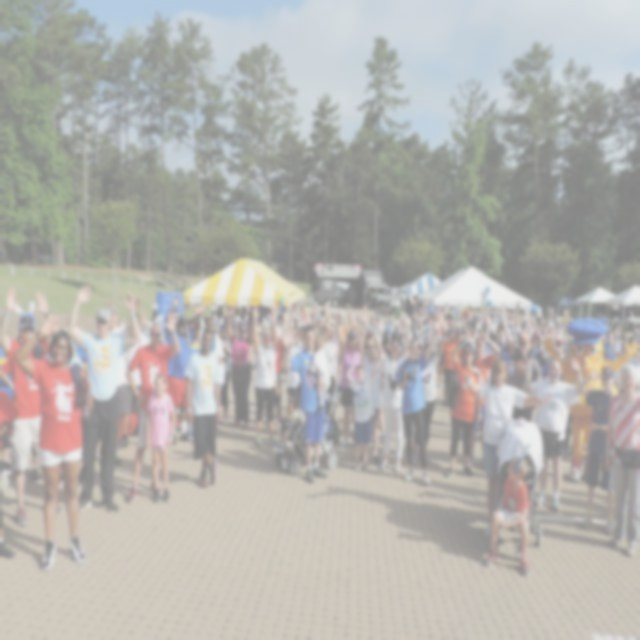pessoa: (13, 313, 91, 571), (64, 281, 141, 513), (461, 354, 555, 538), (0, 282, 57, 528), (520, 353, 604, 510), (124, 310, 182, 504), (0, 296, 46, 485), (496, 297, 639, 355), (394, 316, 441, 487), (574, 364, 618, 536), (282, 323, 329, 483), (604, 360, 639, 560), (370, 311, 412, 477), (556, 354, 606, 486), (480, 452, 532, 576), (184, 326, 224, 487), (441, 328, 483, 478), (105, 296, 144, 452), (104, 296, 142, 452), (164, 294, 202, 447), (496, 304, 544, 422), (310, 297, 412, 347), (116, 312, 152, 452), (345, 349, 383, 473), (469, 330, 502, 466), (334, 311, 366, 450), (144, 370, 177, 504), (251, 304, 281, 447), (356, 318, 384, 462), (411, 300, 497, 346), (128, 294, 204, 345), (226, 306, 254, 428), (421, 334, 448, 457), (270, 390, 318, 452), (440, 324, 464, 406), (229, 301, 276, 342), (308, 332, 332, 410), (218, 323, 235, 427), (284, 343, 304, 421), (282, 297, 310, 349), (0, 506, 16, 558), (502, 352, 524, 388), (274, 311, 284, 375), (204, 300, 228, 326), (529, 352, 551, 379), (607, 353, 634, 375), (472, 402, 485, 444), (434, 354, 440, 390), (464, 344, 476, 354), (485, 345, 497, 353)
